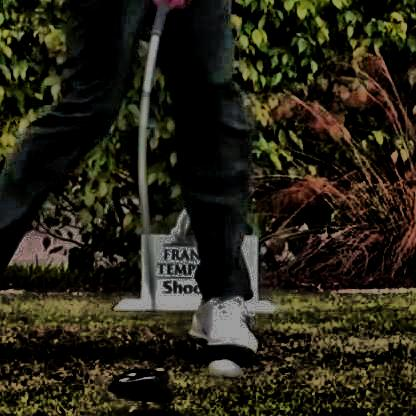golfball: (206, 355, 239, 380)
